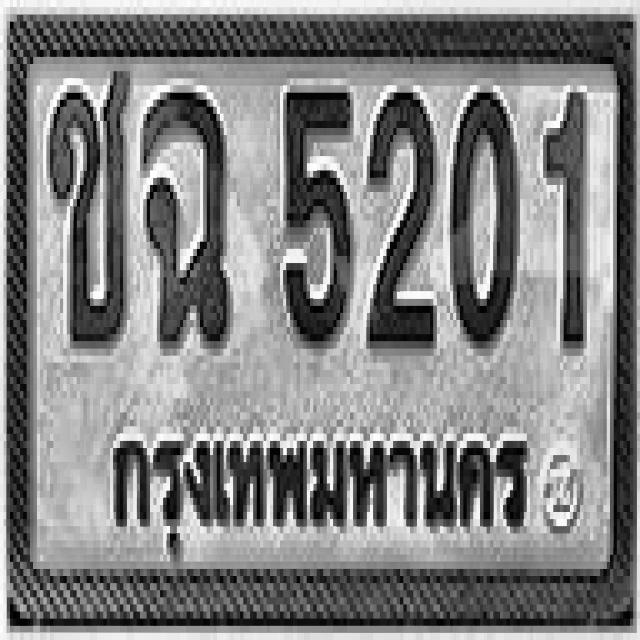license-plate: (12, 27, 631, 610)
